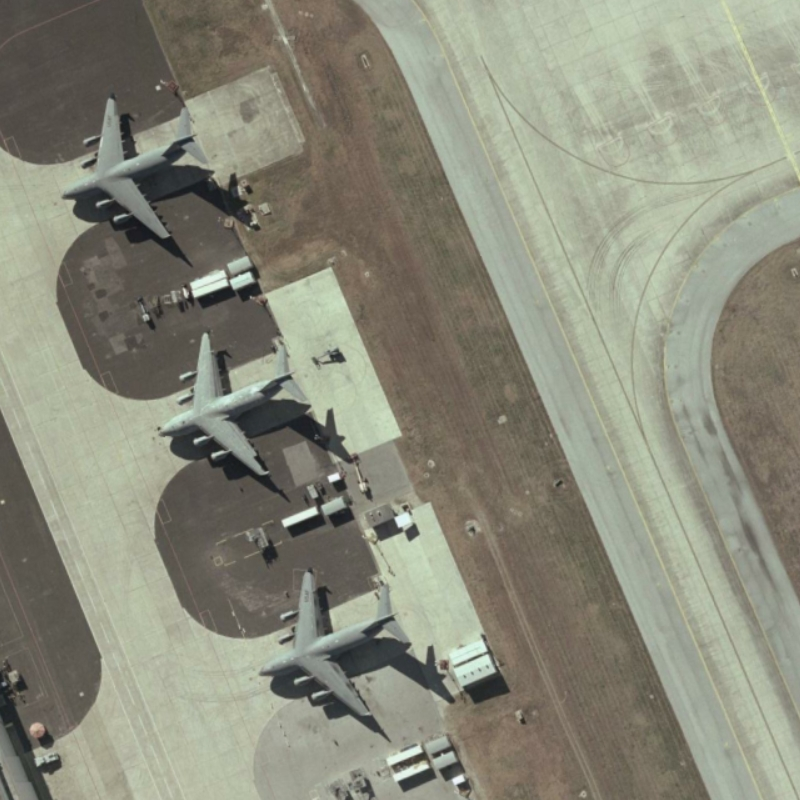A3: (245, 561, 419, 730), (146, 323, 312, 483), (55, 85, 211, 251)
